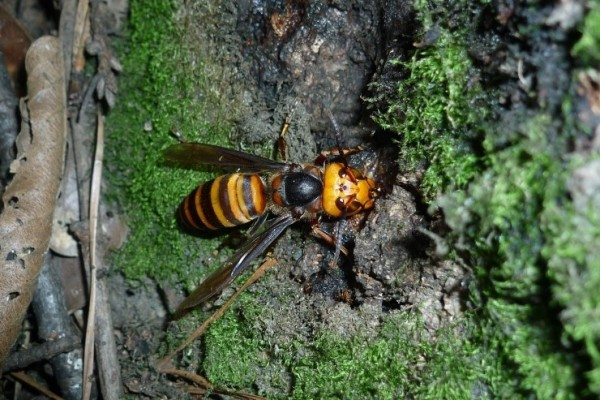asian_giant_hornet: (157, 134, 405, 255)
